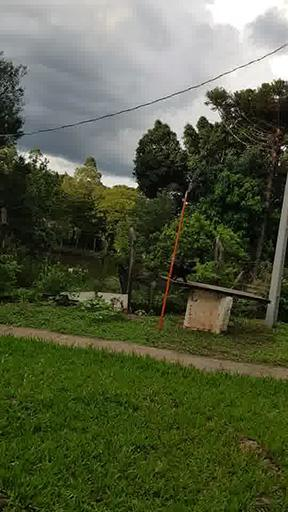Vara_Manobra: (158, 196, 186, 329)
